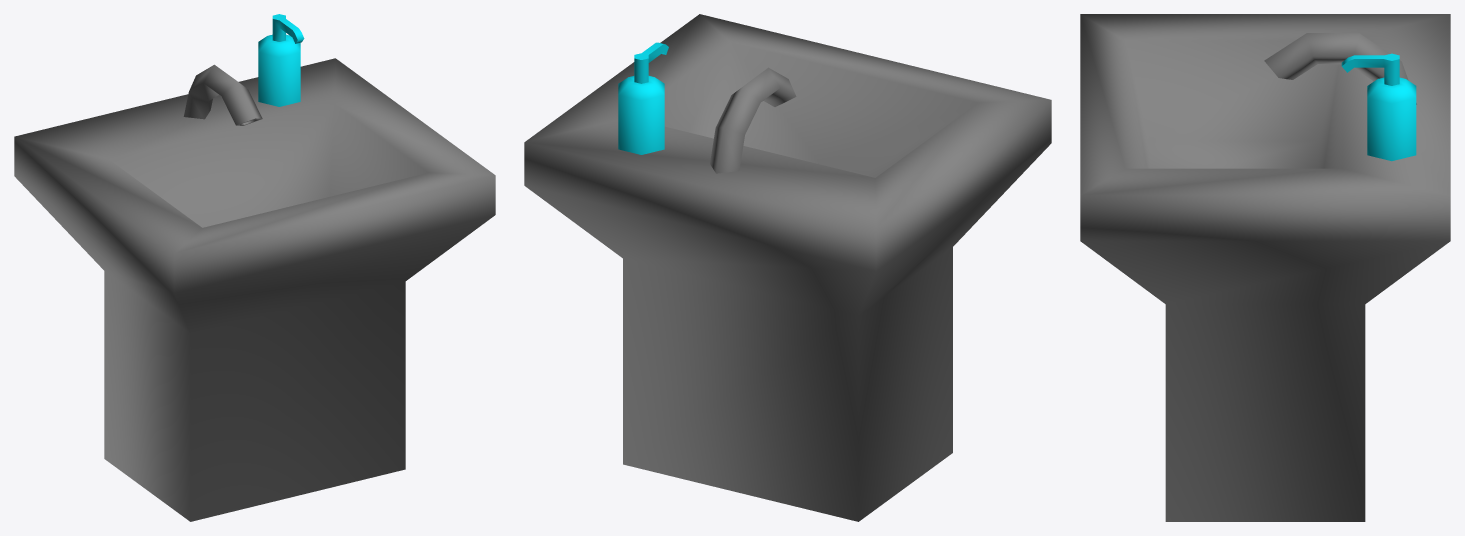
Rendered from basin.fbx.
3 renders of one model, left to right at view 1: azimuth 30°, elevation 25°; view 2: azimuth 150°, elevation 25°; view 3: azimuth 270°, elevation 25°, orthographic. The views are drawn at different scales.
Parts seen in each view (by area): view 1: Box001, Cylinder001, Tube001; view 2: Box001, Cylinder001, Tube001; view 3: Box001, Cylinder001, Tube001.
Boxes of the visible parts, box(x1,y1,x2,y2) form: Box001: box(14, 58, 495, 521); Cylinder001: box(258, 14, 304, 106); Tube001: box(183, 64, 262, 125); Box001: box(524, 14, 1051, 521); Cylinder001: box(618, 42, 668, 154); Tube001: box(710, 67, 796, 173); Box001: box(1080, 14, 1450, 521); Cylinder001: box(1341, 53, 1416, 161); Tube001: box(1264, 33, 1416, 104).
Bounding box in the file's own units: 10.7 × 12.34 × 9.24.
